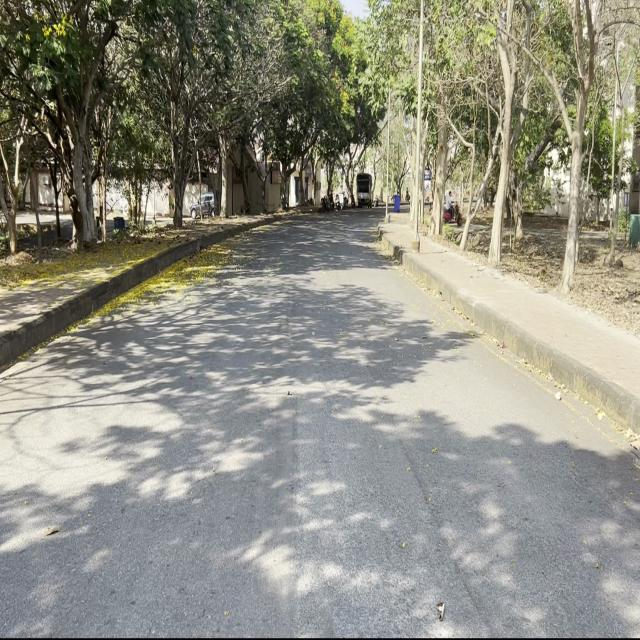Object: (354, 170, 374, 216)
Road: (3, 217, 638, 634)
